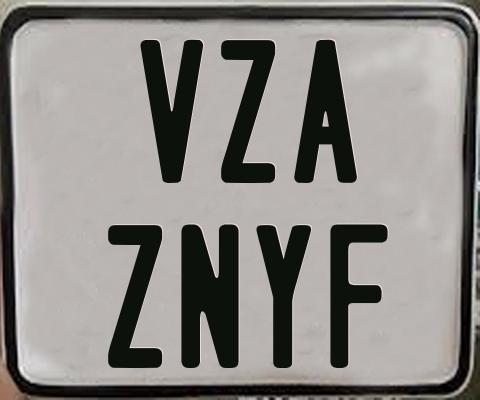A: (293, 40, 359, 184)
F: (330, 221, 393, 367)
N: (180, 222, 238, 369)
V: (140, 37, 208, 186)
Y: (254, 222, 314, 369)
Z: (107, 224, 166, 368), (219, 39, 274, 184)
